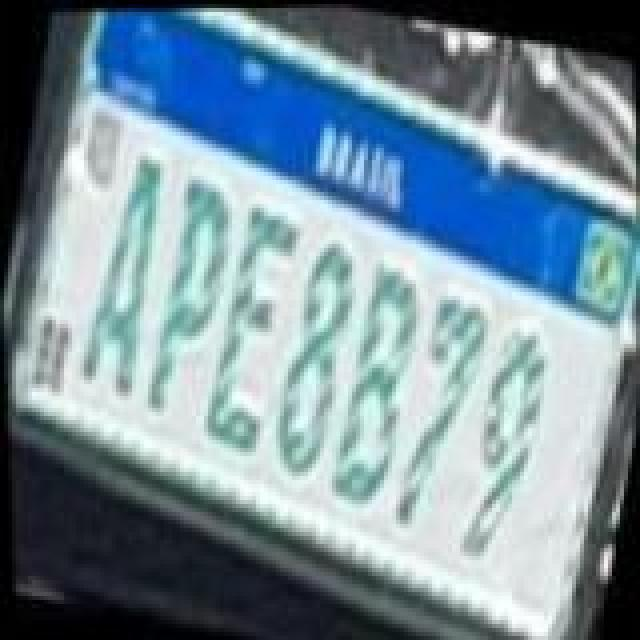7: (378, 282, 498, 538)
8: (258, 226, 374, 486)
9: (442, 312, 562, 568)
A: (62, 142, 178, 406)
B: (312, 246, 432, 510)
E: (190, 188, 310, 460)
P: (130, 166, 246, 422)
